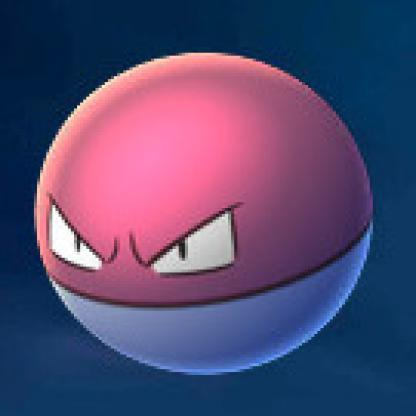Voltorb: (11, 40, 380, 373)
